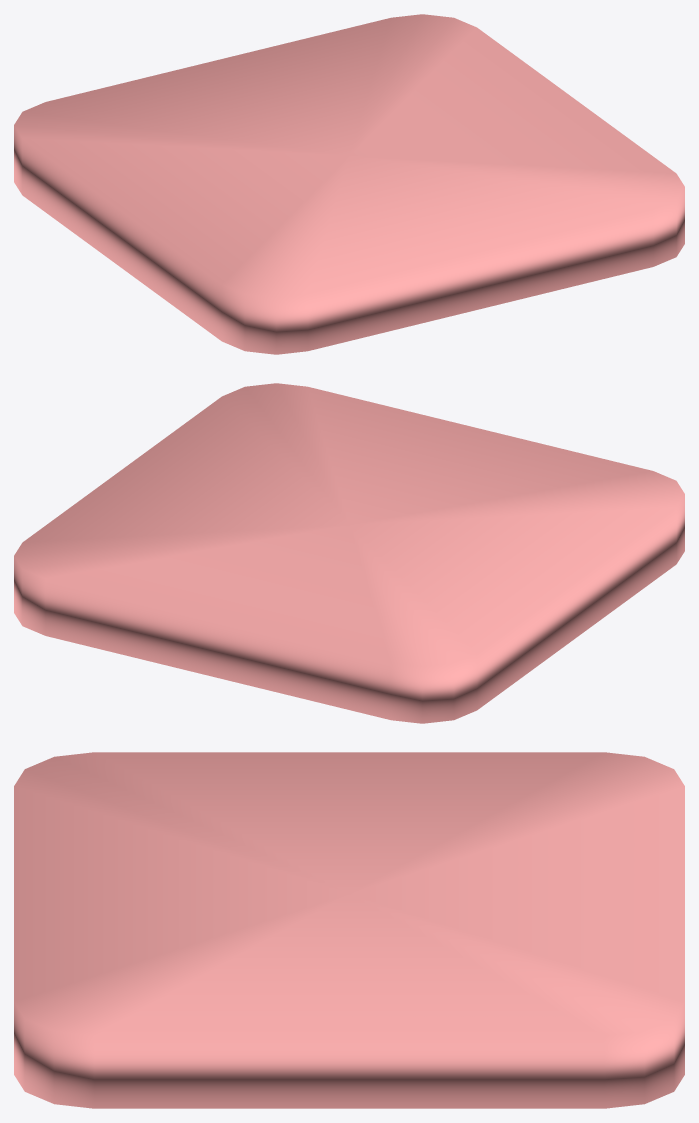
The model's file is tile-square.glb.
3 views of the same model, one above another, from view 1: azimuth 30°, elevation 25°; view 2: azimuth 150°, elevation 25°; view 3: azimuth 270°, elevation 25° (orthographic). The views are drawn at different scales.
Visible parts, largest first — view 1: tile; view 2: tile; view 3: tile.
Part boxes in pixels (x1=…): tile: x1=14, y1=14, x2=684, y2=354; tile: x1=14, y1=383, x2=684, y2=723; tile: x1=14, y1=752, x2=684, y2=1108.
Bounding box in the file's own units: 1 × 0.12 × 1.
